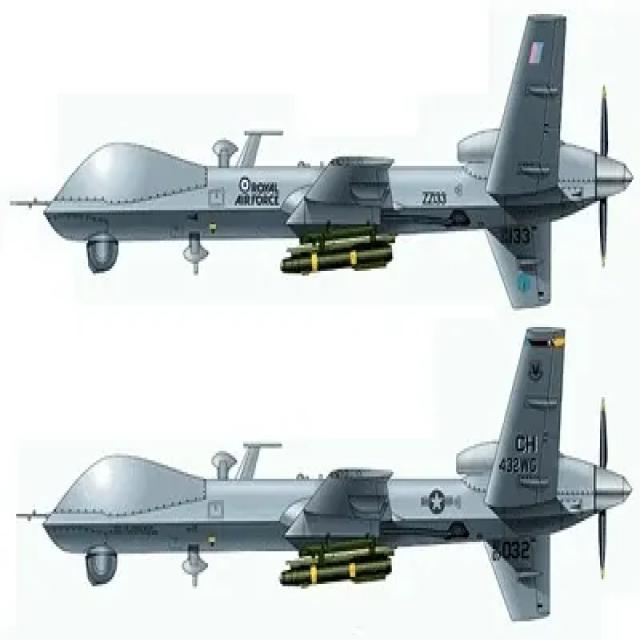MQ9: (5, 313, 640, 640), (13, 0, 640, 322)
